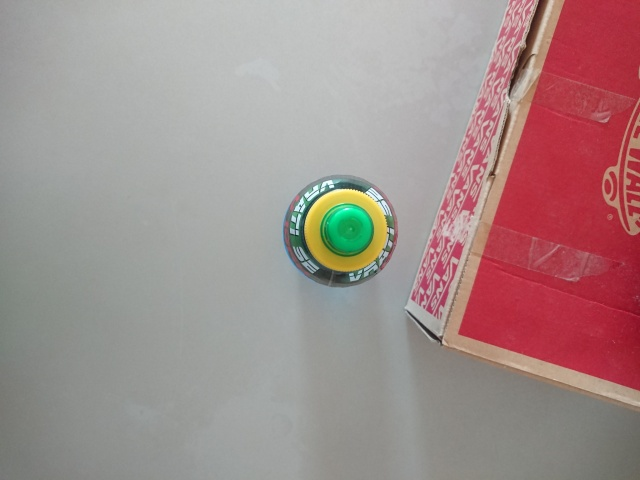Vindi Iso Sport Forest Strawberries 500mL: (280, 172, 400, 290)
